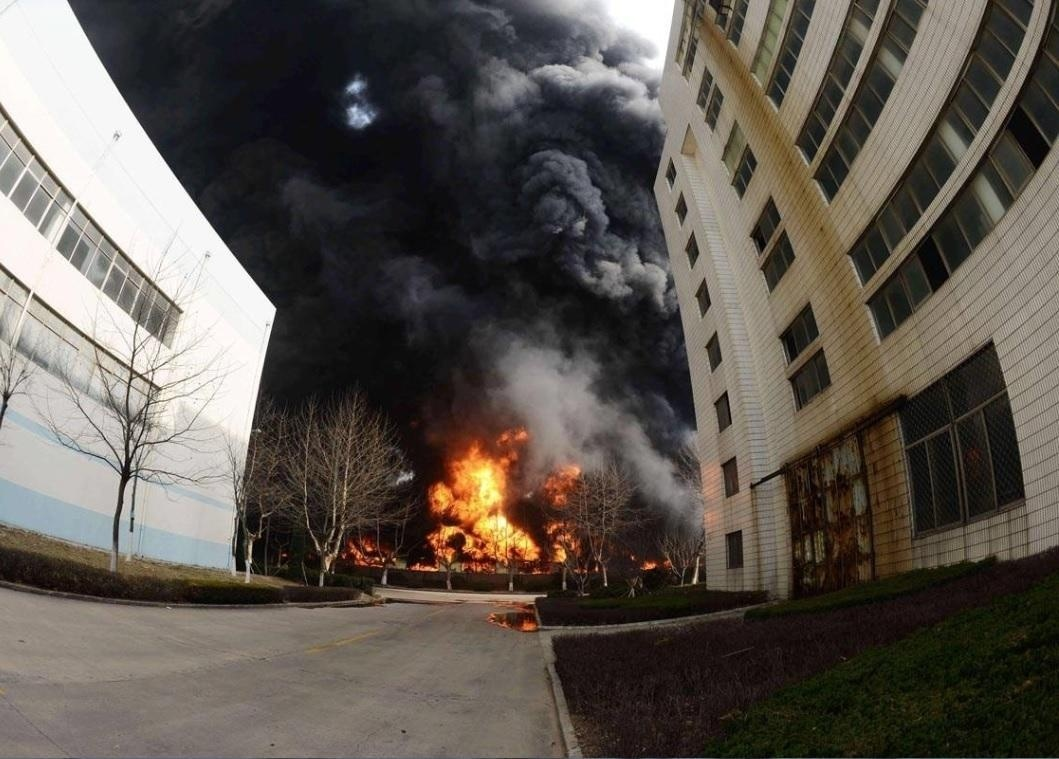fire: (423, 429, 584, 570), (635, 552, 666, 569)
